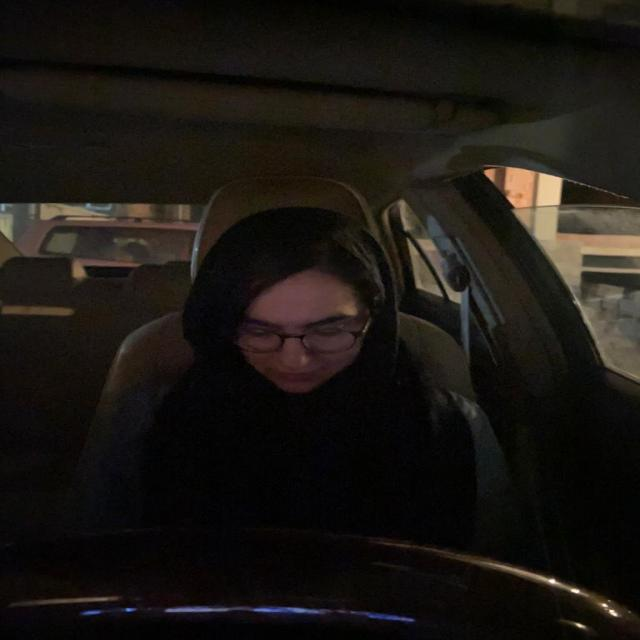drowsy: (190, 198, 406, 408)
